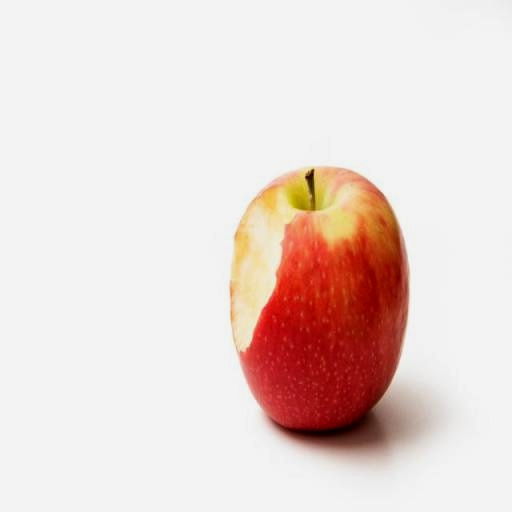fruit: (230, 168, 407, 430)
